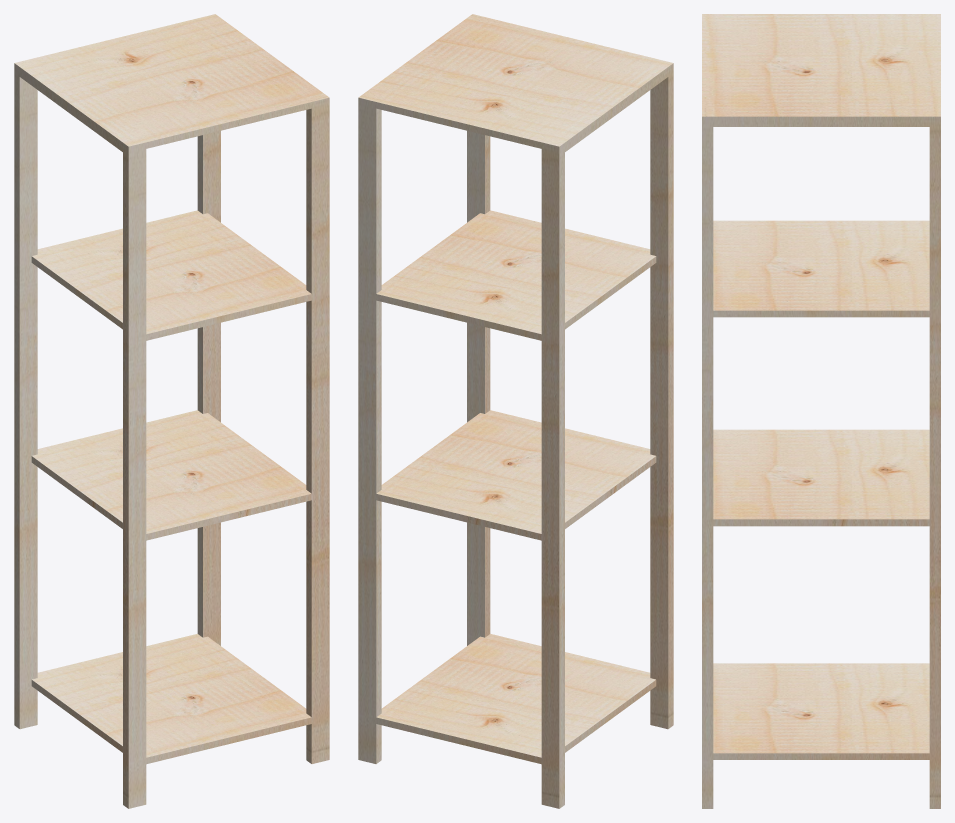
The model's file is IKEA-ALBERT_Etagere-3D.obj.
3 renders of one model, left to right at view 1: azimuth 30°, elevation 25°; view 2: azimuth 150°, elevation 25°; view 3: azimuth 270°, elevation 25°, orthographic. The views are drawn at different scales.
Visible parts, largest first — view 1: Line002, Line001, Box001, Box006, Box004, Box008; view 2: Line002, Line001, Box001, Box008, Box006, Box004; view 3: Box001, Box004, Box006, Box008, Line001, Line002.
Boxes of the visible parts, bbox=[...] form: Line002: bbox=[14, 60, 146, 808]; Line001: bbox=[197, 14, 329, 763]; Box001: bbox=[26, 17, 316, 148]; Box006: bbox=[31, 410, 311, 540]; Box004: bbox=[31, 210, 311, 340]; Box008: bbox=[31, 634, 311, 764]; Line002: bbox=[541, 60, 673, 808]; Line001: bbox=[358, 14, 490, 763]; Box001: bbox=[371, 17, 661, 148]; Box008: bbox=[374, 634, 656, 765]; Box006: bbox=[376, 410, 656, 540]; Box004: bbox=[376, 210, 656, 340]; Box001: bbox=[702, 20, 940, 109]; Box004: bbox=[713, 220, 929, 317]; Box006: bbox=[713, 429, 929, 526]; Box008: bbox=[713, 663, 929, 759]; Line001: bbox=[702, 110, 940, 808]; Line002: bbox=[702, 14, 940, 19].
Bounding box in the file's own units: 640 × 2015 × 630.
